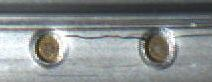joints: (137, 27, 177, 69), (29, 28, 69, 67)
